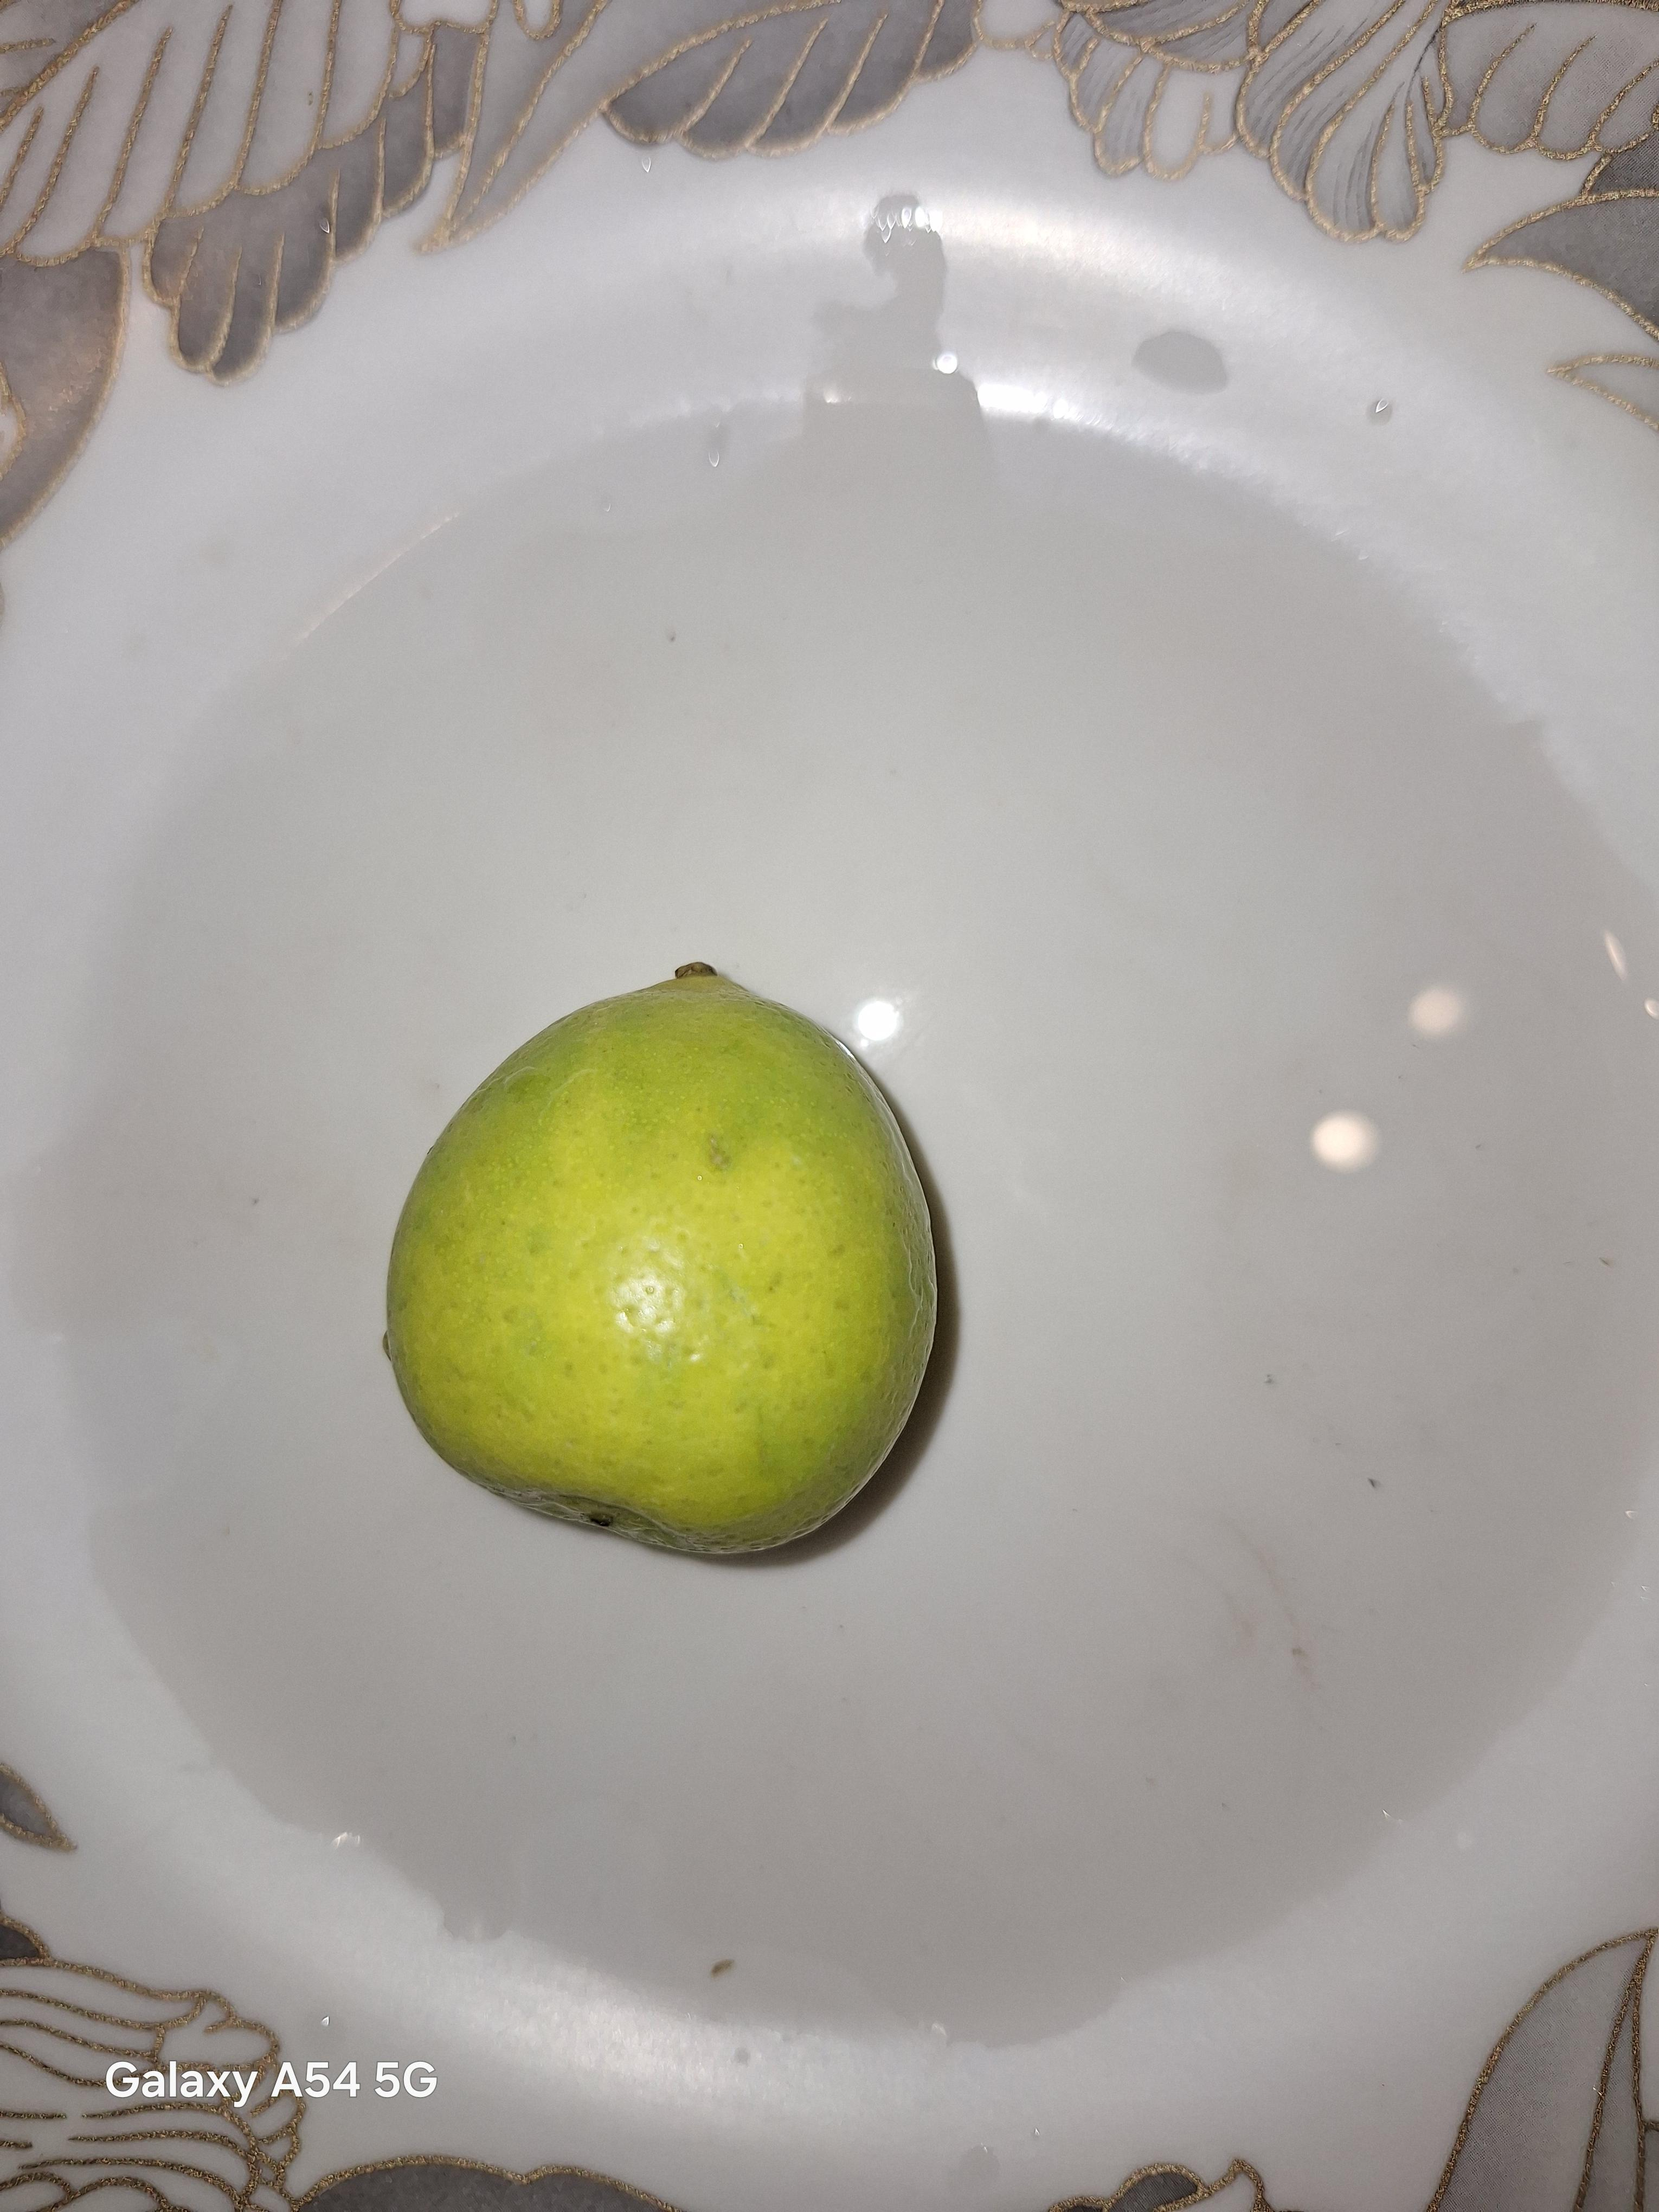non-mango: (362, 941, 960, 1576)
